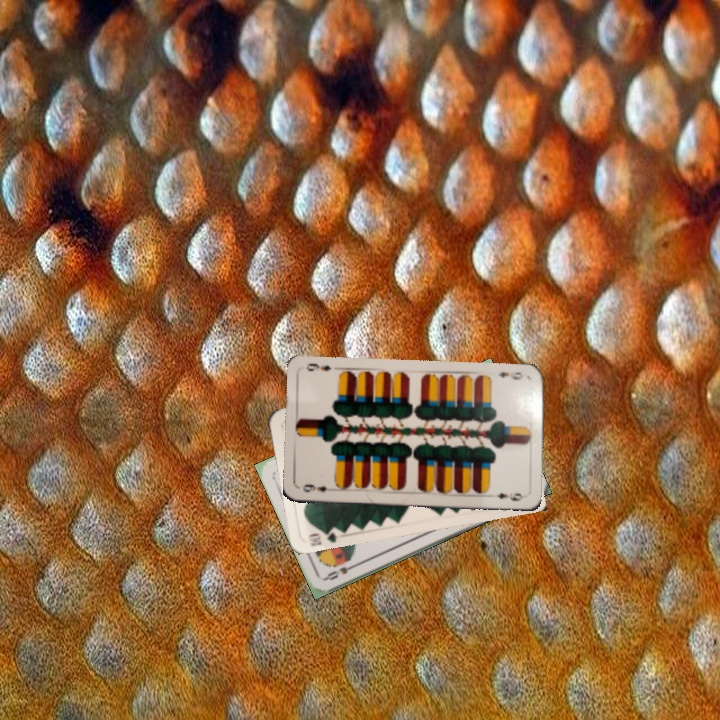E9: (299, 480, 337, 495), (495, 368, 525, 382)
G10: (304, 524, 340, 548)
SO: (321, 559, 360, 583)
